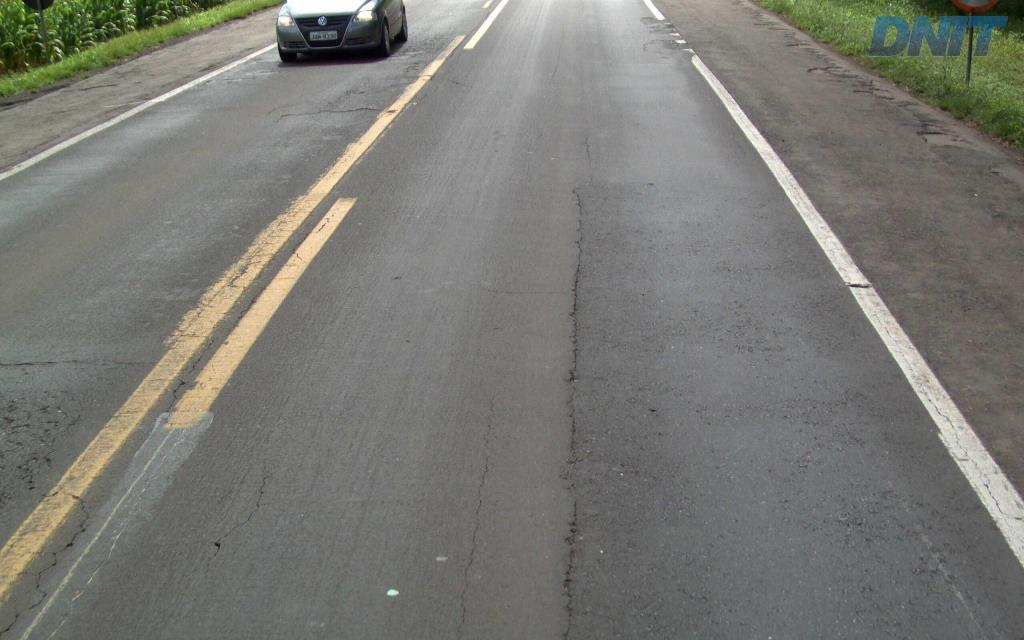crack: (565, 263, 581, 384), (561, 547, 577, 639)
